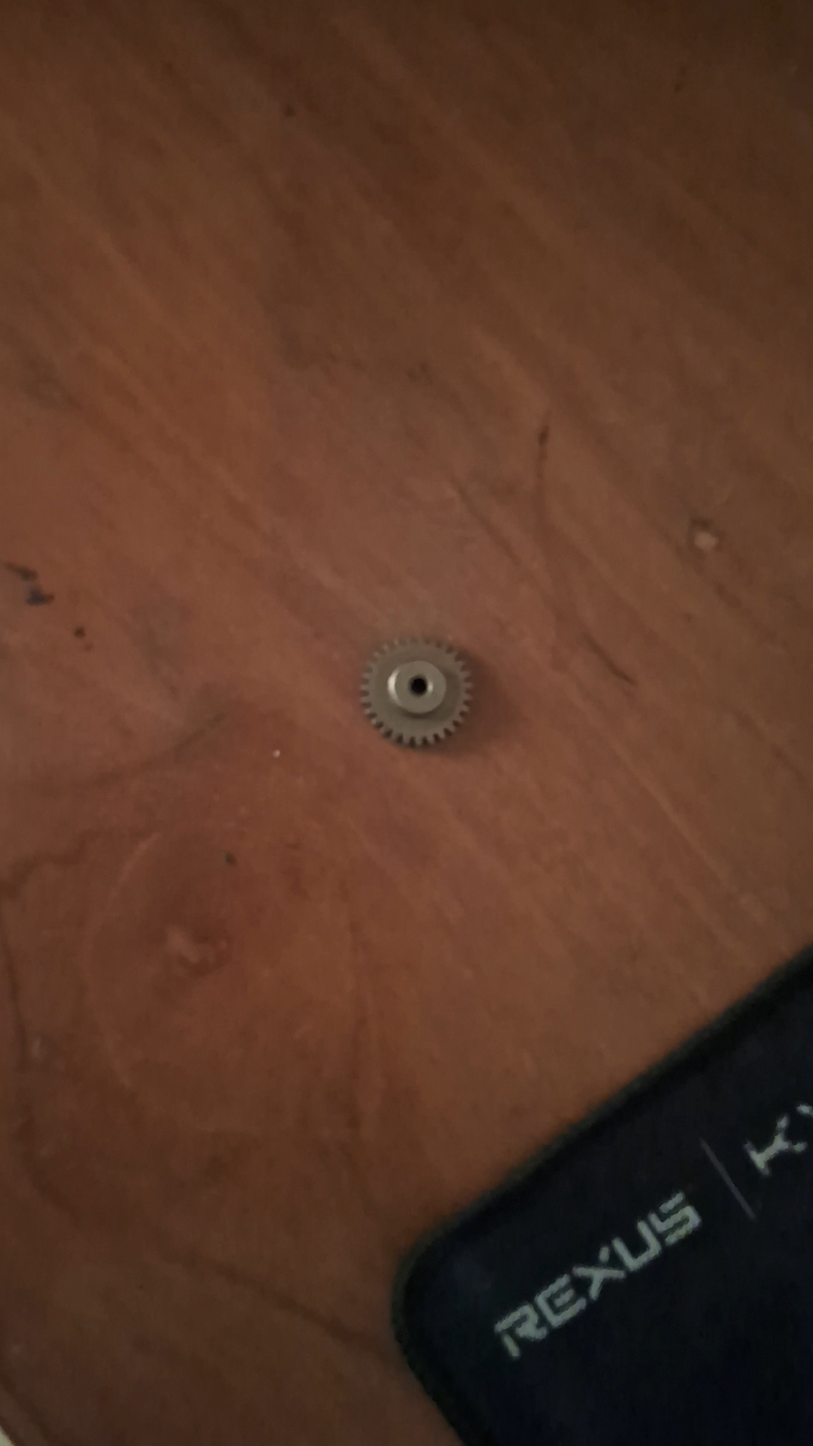spur gear: (361, 640, 470, 746)
